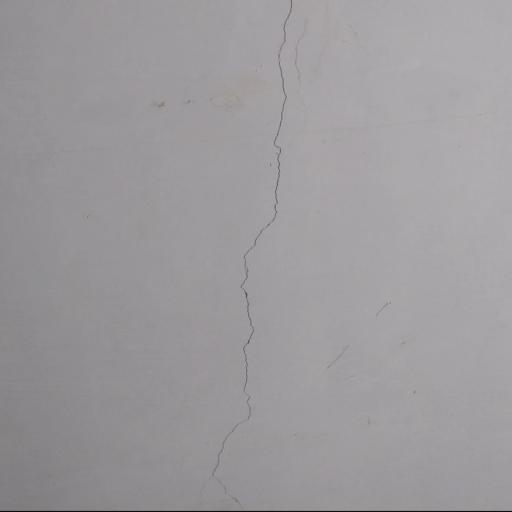minor_crack: (207, 0, 313, 504)
